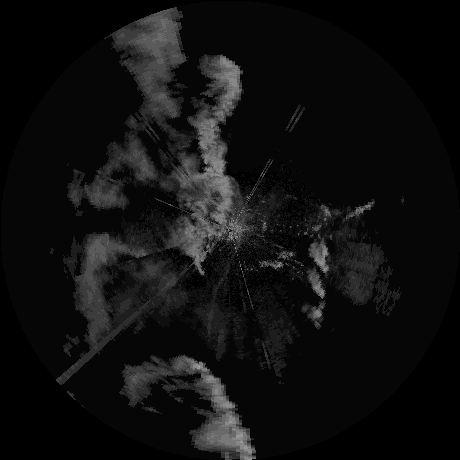frontgust: (205, 244, 241, 330)
